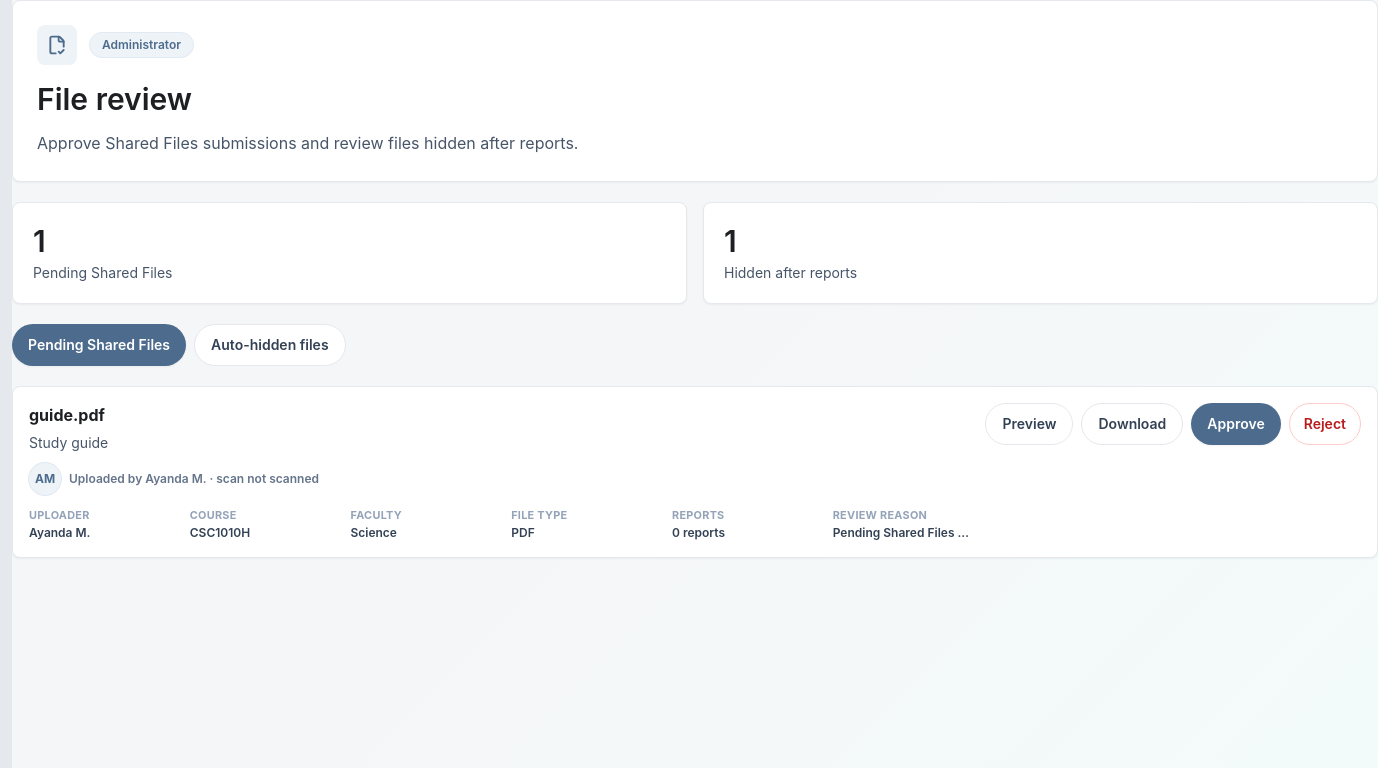
Test case: AdminFilesPage › approves pending Shared Files and removes them from the queue
Click the button "Approve" at (1236, 424), box [1191,403,1281,445]
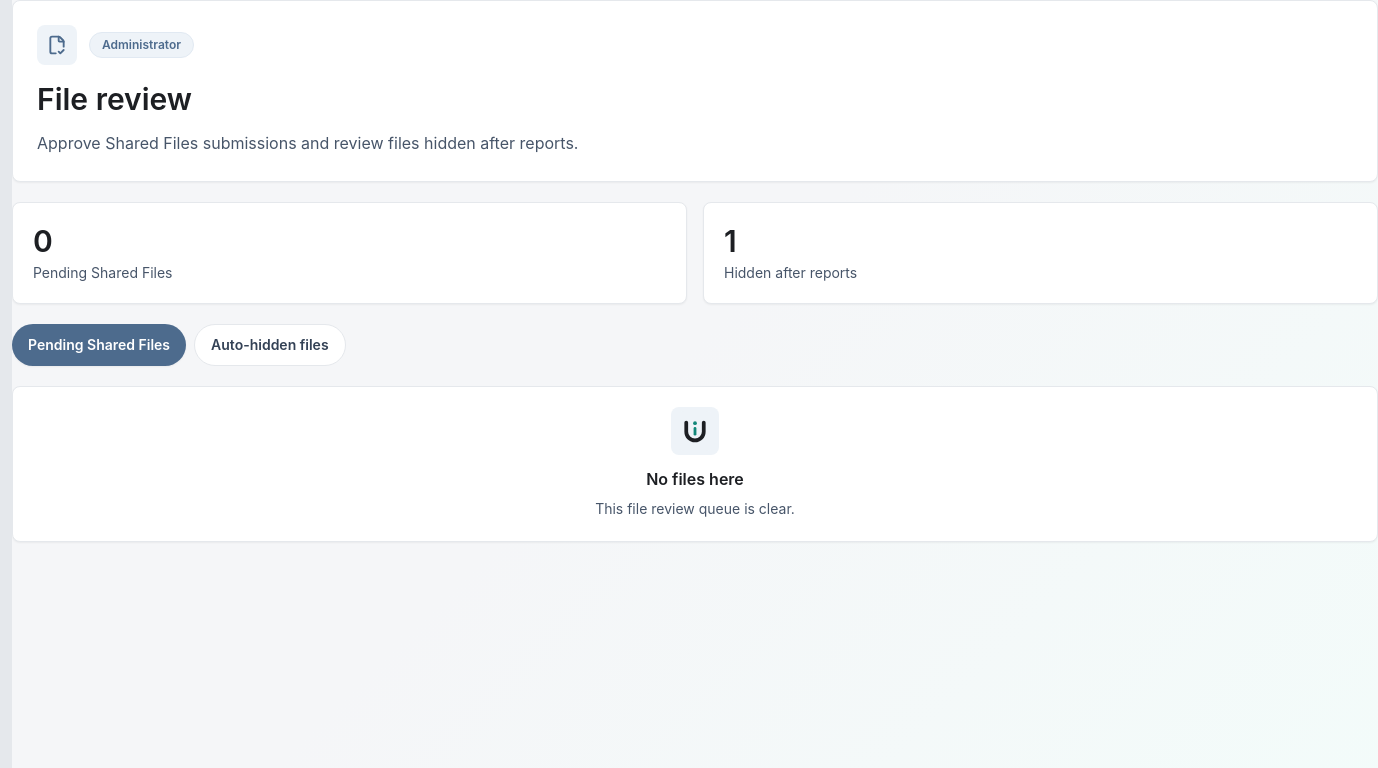
Check: the heading "guide.pdf" is gone
